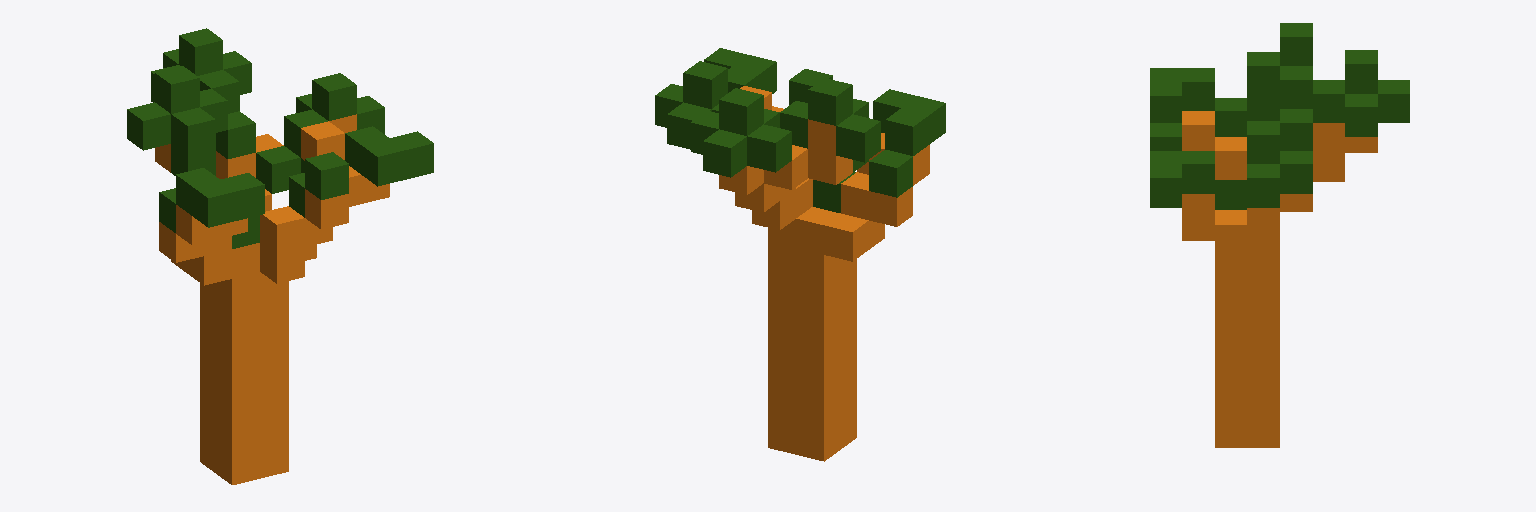
3 views of the same model, side by side, from view 1: azimuth 30°, elevation 25°; view 2: azimuth 150°, elevation 25°; view 3: azimuth 270°, elevation 25° (orthographic).
Parts seen in each view (by area): view 1: object 1; view 2: object 1; view 3: object 1.
Part boxes in pixels (x1,y1,x2,y2): object 1: (127,28,433,484); object 1: (655,48,945,461); object 1: (1150,23,1409,447).
Size of the model in its own units: 0.8 by 1.3 by 0.8.
1 materials, 1 textured.